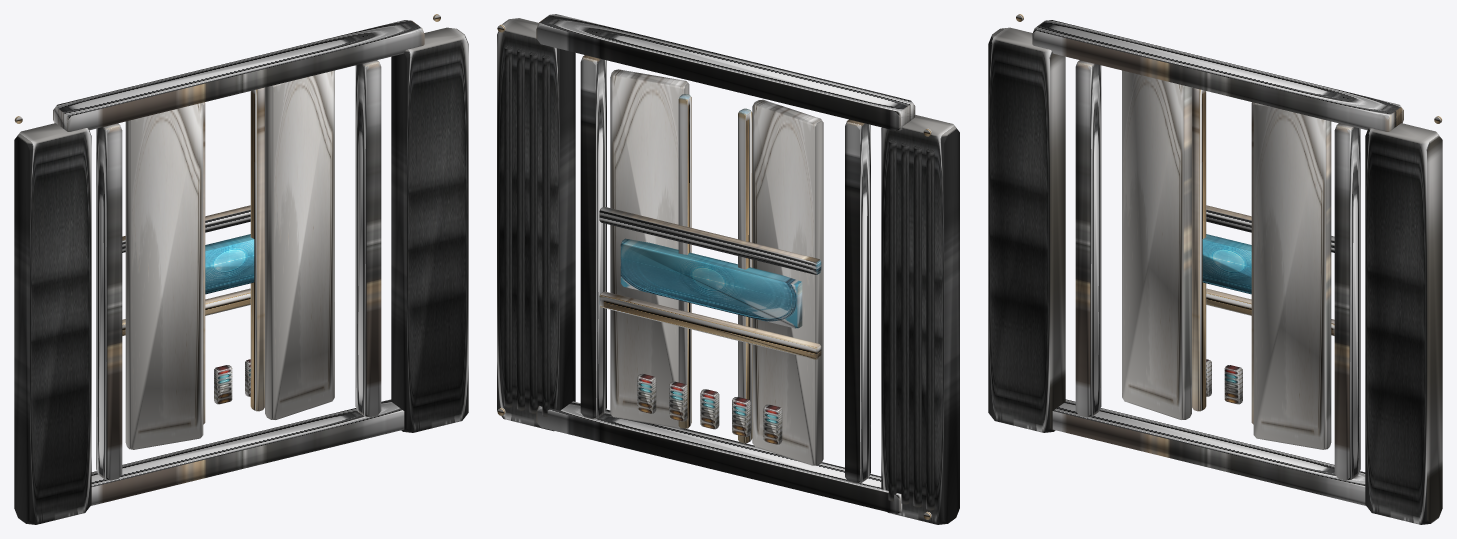
Rendered from room_l5_v3_intake_identity_gate.glb.
The picture shows the model from 3 angles, left to right: view 1: azimuth 30°, elevation 25°; view 2: azimuth 150°, elevation 25°; view 3: azimuth 330°, elevation 25°; orthographic projection.
Visible parts, largest first — view 1: left_pad_backing, right_pad_backing, curved_ceramic_leaf_-0.46, curved_ceramic_leaf_0.46, top_graphite_frame, bottom_graphite_frame, inner_graphite_stile_-0.88, inner_graphite_stile_0.88, ceramic_brass_edge_0.46, cyan_biometric_lens, ceramic_brass_edge_-0.46, lower_brass_trim (+2 smaller); view 2: left_pad_backing, curved_ceramic_leaf_-0.46, right_pad_backing, curved_ceramic_leaf_0.46, top_graphite_frame, bottom_graphite_frame, inner_graphite_stile_0.88, inner_graphite_stile_-0.88, cyan_biometric_lens, lower_brass_trim, upper_black_gasket, ceramic_brass_edge_-0.46 (+14 smaller); view 3: right_pad_backing, left_pad_backing, curved_ceramic_leaf_0.46, curved_ceramic_leaf_-0.46, top_graphite_frame, bottom_graphite_frame, inner_graphite_stile_0.88, inner_graphite_stile_-0.88, ceramic_brass_edge_-0.46, cyan_biometric_lens, ceramic_brass_edge_0.46, lower_brass_trim (+2 smaller).
Part boxes in pixels (box(x1,y1,x2,y2)): left_pad_backing: box(14, 123, 91, 524); right_pad_backing: box(391, 27, 468, 432); curved_ceramic_leaf_-0.46: box(125, 103, 203, 449); curved_ceramic_leaf_0.46: box(265, 70, 334, 419); top_graphite_frame: box(53, 20, 424, 131); bottom_graphite_frame: box(91, 399, 404, 505); inner_graphite_stile_-0.88: box(96, 123, 122, 480); inner_graphite_stile_0.88: box(355, 60, 381, 417); ceramic_brass_edge_0.46: box(250, 87, 264, 411); cyan_biometric_lens: box(205, 234, 254, 294); ceramic_brass_edge_-0.46: box(202, 102, 205, 424); lower_brass_trim: box(122, 288, 250, 335); left_pad_backing: box(881, 115, 959, 524); curved_ceramic_leaf_-0.46: box(752, 99, 823, 465); right_pad_backing: box(497, 18, 575, 431); curved_ceramic_leaf_0.46: box(610, 69, 689, 428); top_graphite_frame: box(536, 14, 915, 130); bottom_graphite_frame: box(536, 401, 902, 513); inner_graphite_stile_0.88: box(580, 55, 606, 418); inner_graphite_stile_-0.88: box(845, 119, 870, 483); cyan_biometric_lens: box(620, 238, 802, 328); lower_brass_trim: box(599, 291, 821, 359); upper_black_gasket: box(599, 207, 821, 274); ceramic_brass_edge_-0.46: box(738, 108, 752, 443); right_pad_backing: box(1365, 123, 1442, 524); left_pad_backing: box(988, 27, 1065, 432); curved_ceramic_leaf_0.46: box(1253, 103, 1331, 449); curved_ceramic_leaf_-0.46: box(1122, 70, 1191, 419); top_graphite_frame: box(1032, 20, 1403, 131); bottom_graphite_frame: box(1052, 399, 1365, 505); inner_graphite_stile_0.88: box(1334, 123, 1360, 480); inner_graphite_stile_-0.88: box(1075, 60, 1101, 417); ceramic_brass_edge_-0.46: box(1192, 87, 1206, 411); cyan_biometric_lens: box(1202, 234, 1251, 294); ceramic_brass_edge_0.46: box(1251, 102, 1254, 424); lower_brass_trim: box(1206, 288, 1334, 335).
Bounding box in the file's own units: 2.98 × 2.58 × 0.3275.
9 materials, 9 textured.
